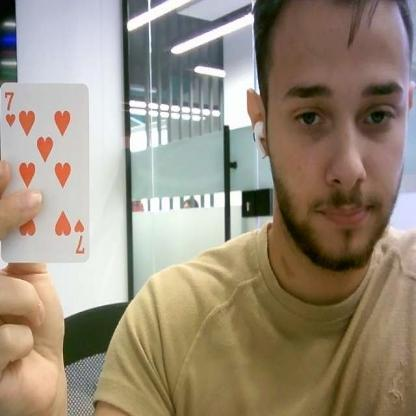7H: (72, 218, 85, 256), (5, 90, 16, 128)
